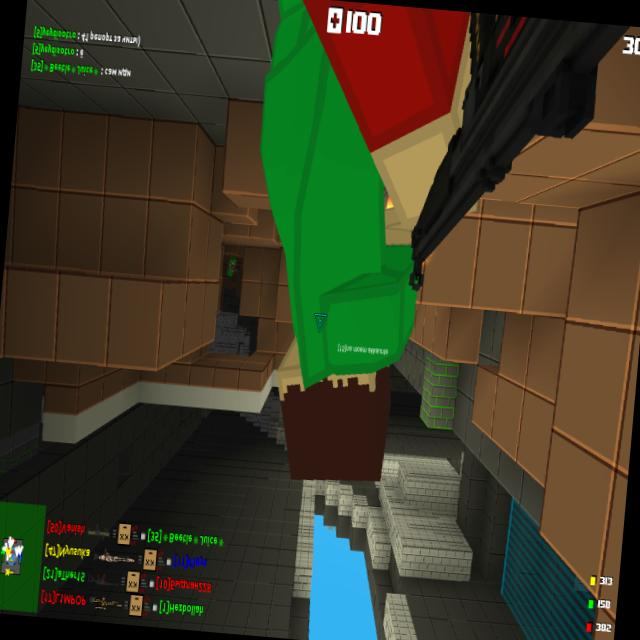enemy: (232, 0, 443, 485), (226, 256, 236, 278)
